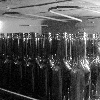beer: (41, 32, 61, 100)
